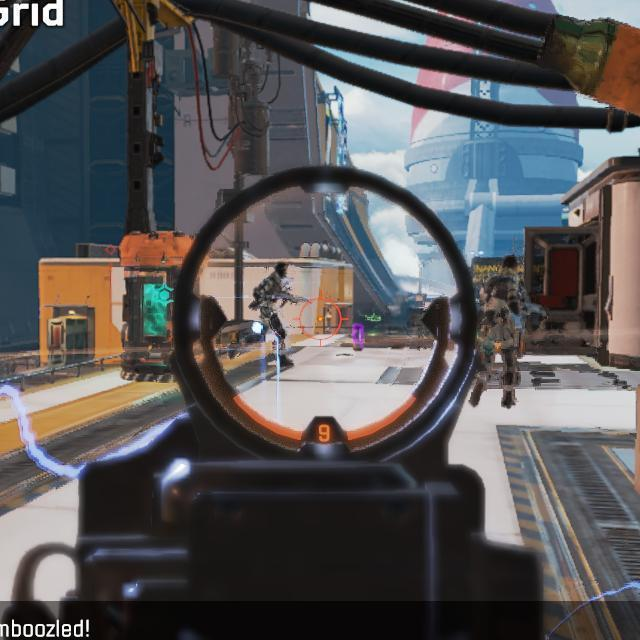avatar: (466, 254, 525, 409), (247, 261, 295, 365)
